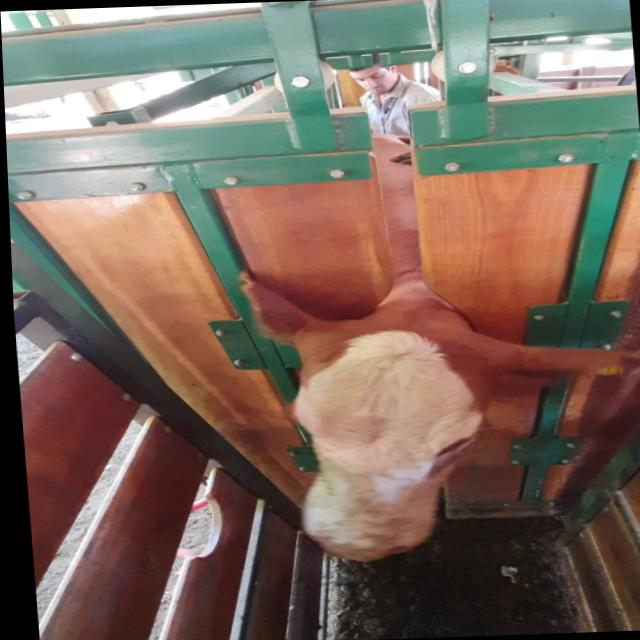cowFace: (277, 317, 488, 563)
